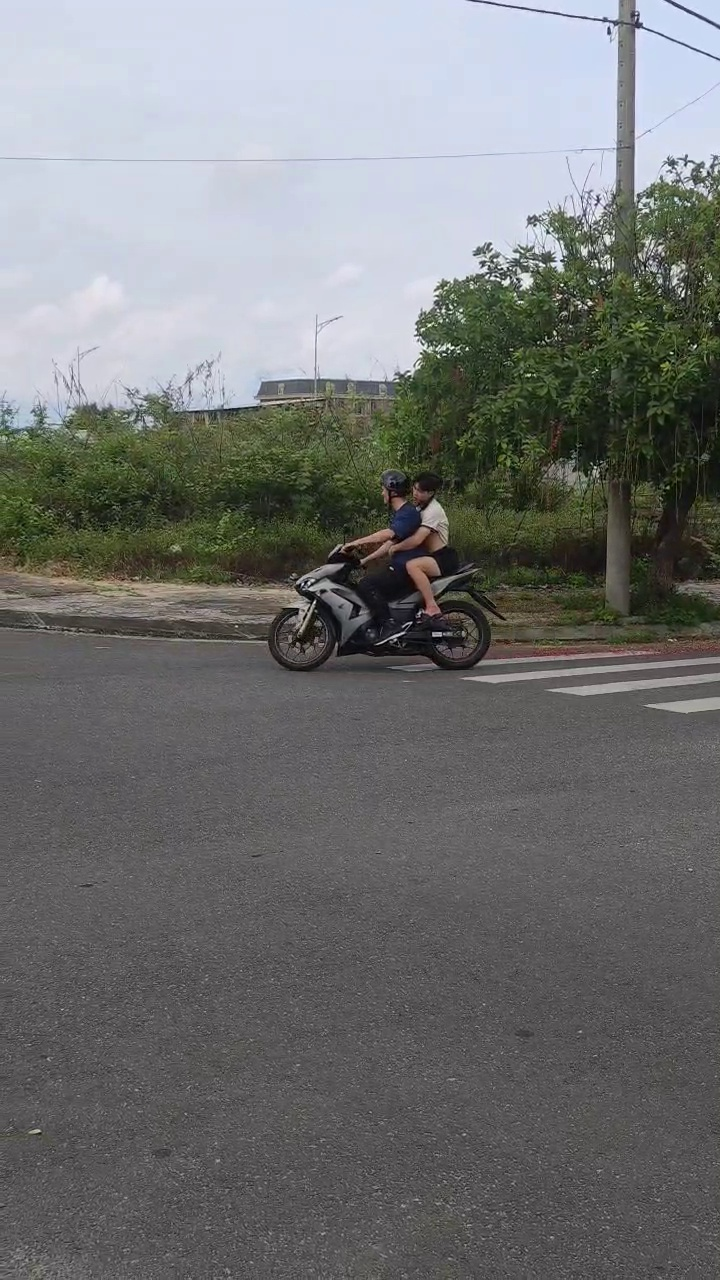helmet: (382, 469, 407, 512)
no_helmet: (414, 468, 441, 509)
